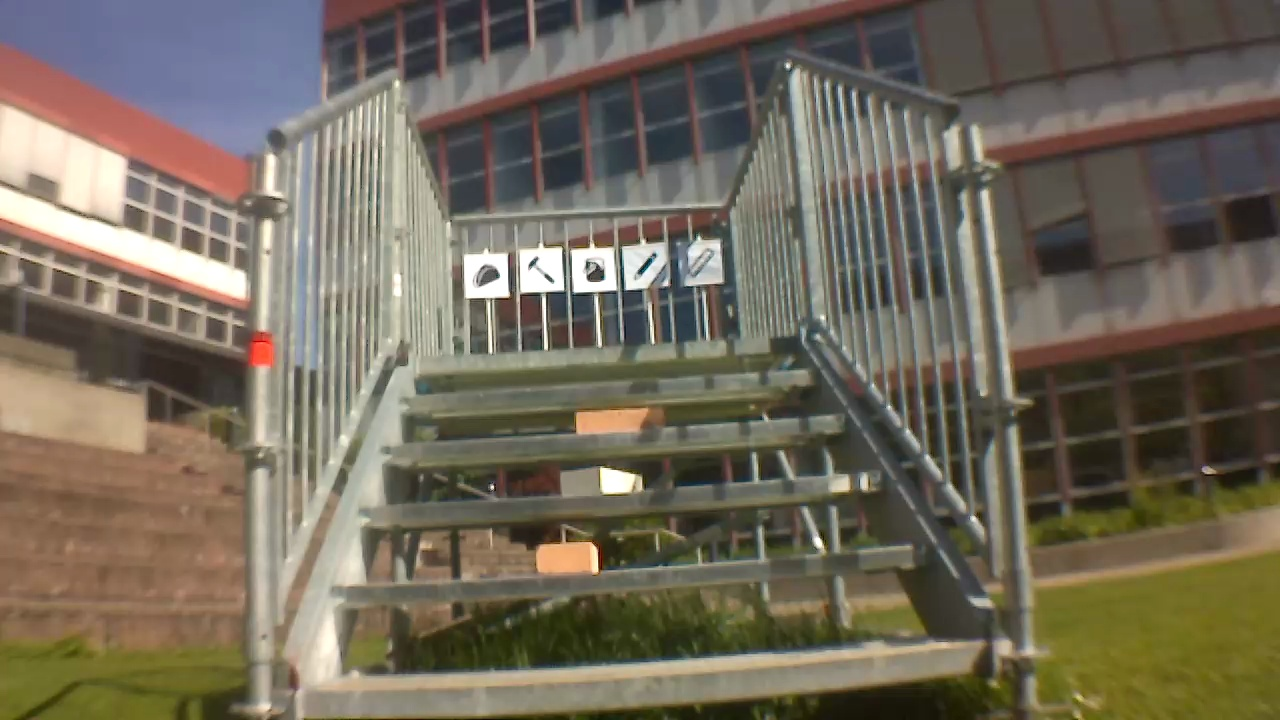brick: (568, 407, 664, 432), (558, 469, 644, 494), (536, 540, 597, 573)
bucket: (577, 254, 606, 284)
edge: (301, 646, 978, 713), (321, 548, 922, 615), (354, 483, 880, 529), (380, 433, 844, 467), (394, 377, 823, 413), (415, 336, 799, 370)
hammer: (523, 256, 557, 285)
pencil: (629, 247, 665, 285)
ruler: (685, 242, 717, 279)
stairs: (237, 62, 1029, 712)
steps: (254, 334, 973, 710)
taco: (467, 256, 501, 292)
